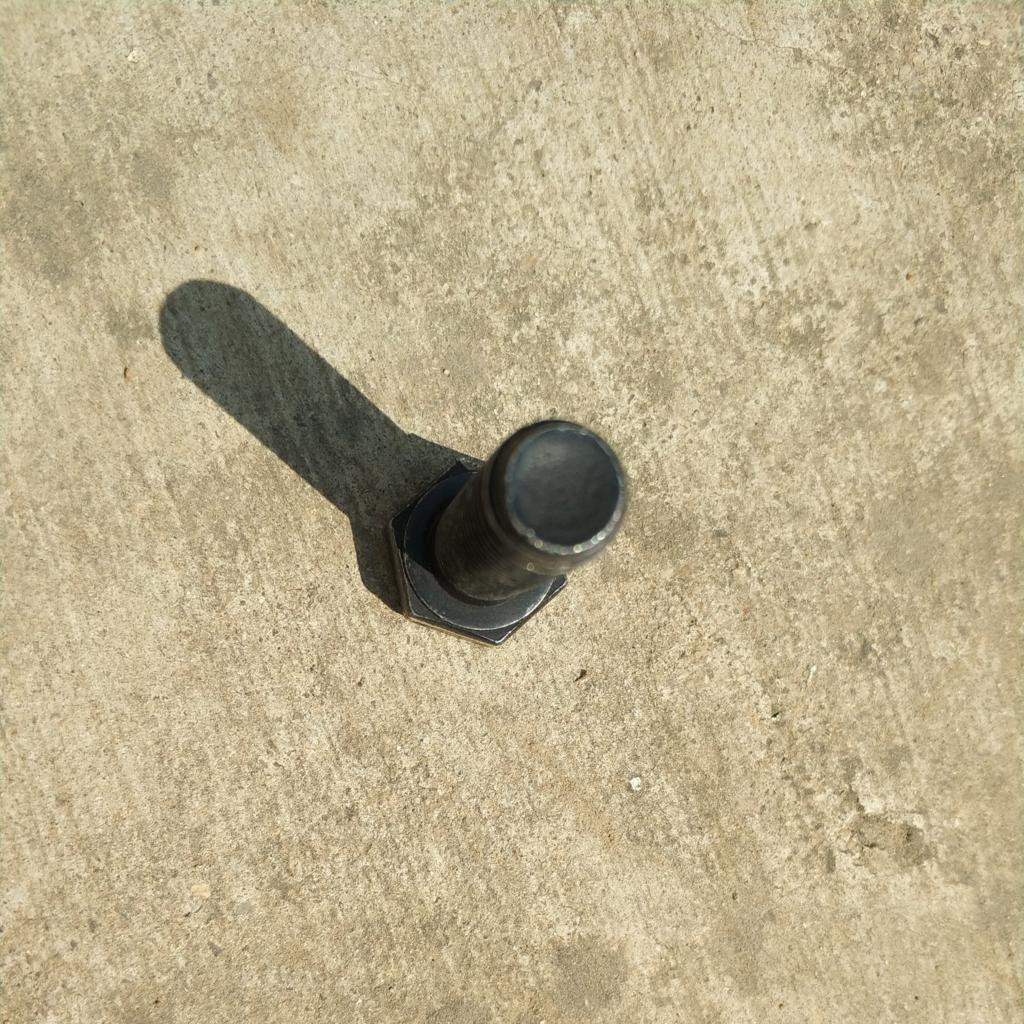screwtype2black: (361, 406, 634, 661)
